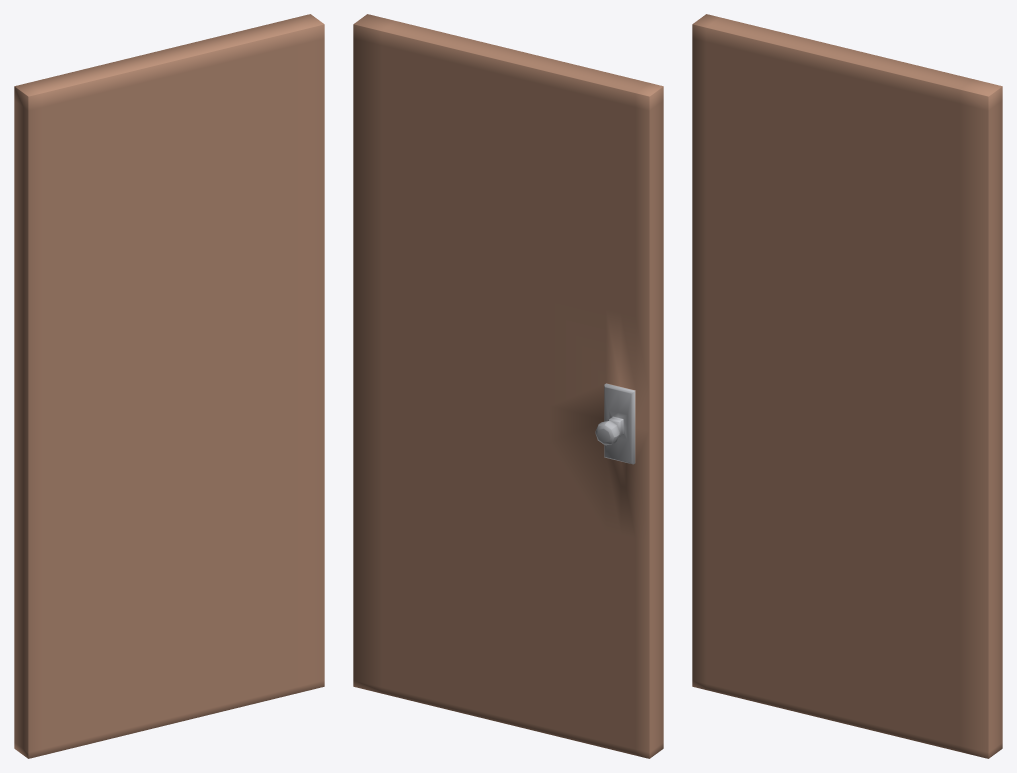
File: Bedroom_Door.fbx
3 views of the same model, side by side, from view 1: azimuth 30°, elevation 25°; view 2: azimuth 150°, elevation 25°; view 3: azimuth 330°, elevation 25° (orthographic).
Parts seen in each view (by area): view 1: Bedroom_door; view 2: Bedroom_door; view 3: Bedroom_door.
Part boxes in pixels (bbox=[...]): Bedroom_door: bbox=[14, 14, 324, 758]; Bedroom_door: bbox=[353, 14, 663, 758]; Bedroom_door: bbox=[692, 14, 1002, 758].
Size of the model in its own units: 180 by 383 by 32.79.
